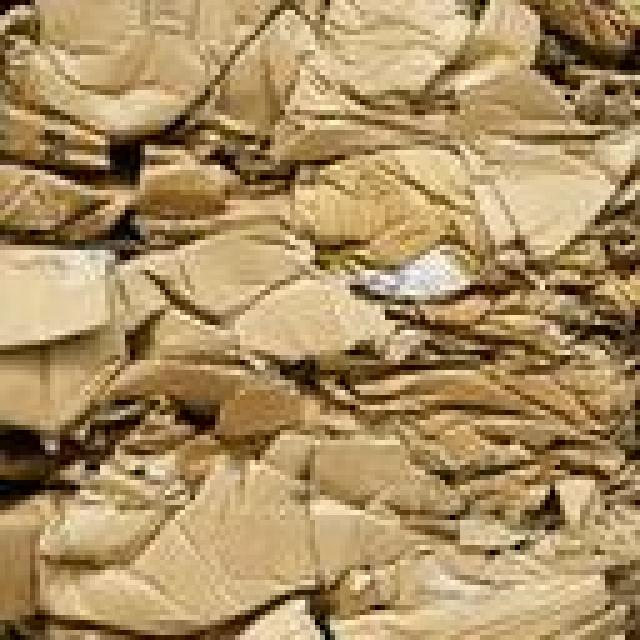cardboard: (0, 0, 635, 635), (0, 410, 385, 635), (0, 0, 310, 145), (305, 360, 635, 485), (110, 205, 385, 345), (235, 0, 460, 170), (0, 240, 140, 445), (285, 140, 475, 290), (460, 120, 635, 280), (330, 565, 635, 635), (385, 275, 635, 360), (400, 455, 635, 545), (140, 320, 295, 445), (470, 470, 635, 585), (415, 0, 565, 125), (260, 425, 455, 505), (0, 590, 320, 635), (135, 145, 285, 240), (0, 150, 140, 235), (555, 200, 635, 330), (520, 0, 635, 75), (0, 90, 100, 170), (560, 60, 635, 120)
